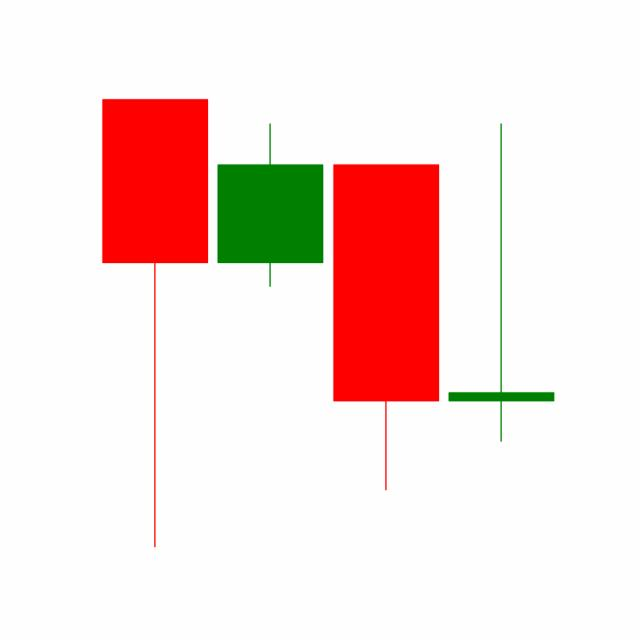Spinning Top: (443, 119, 559, 445)
